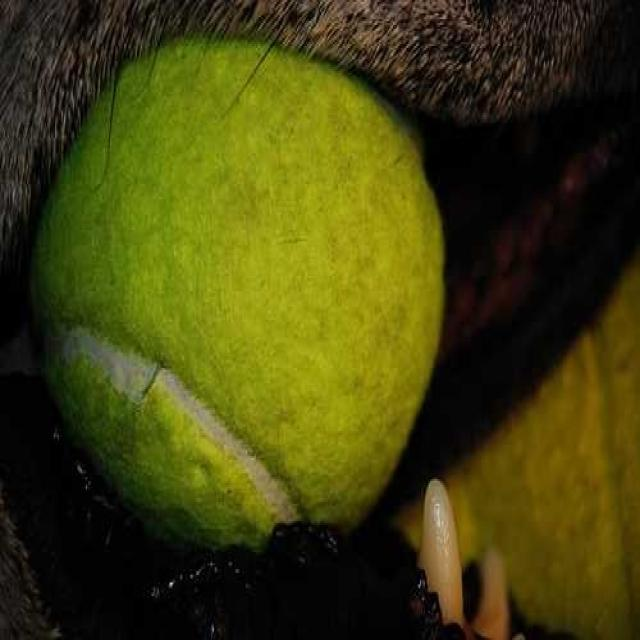Tennis_Ball: (34, 44, 444, 557)
